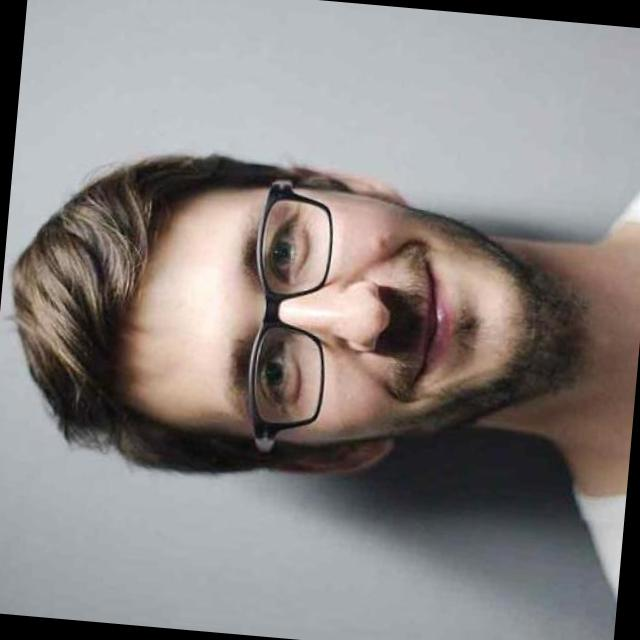bareface: (76, 126, 562, 475)
